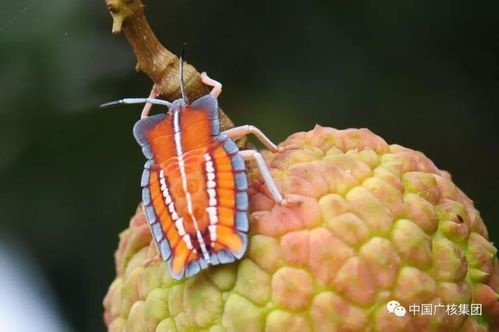Stink_Bug: (123, 104, 257, 259)
